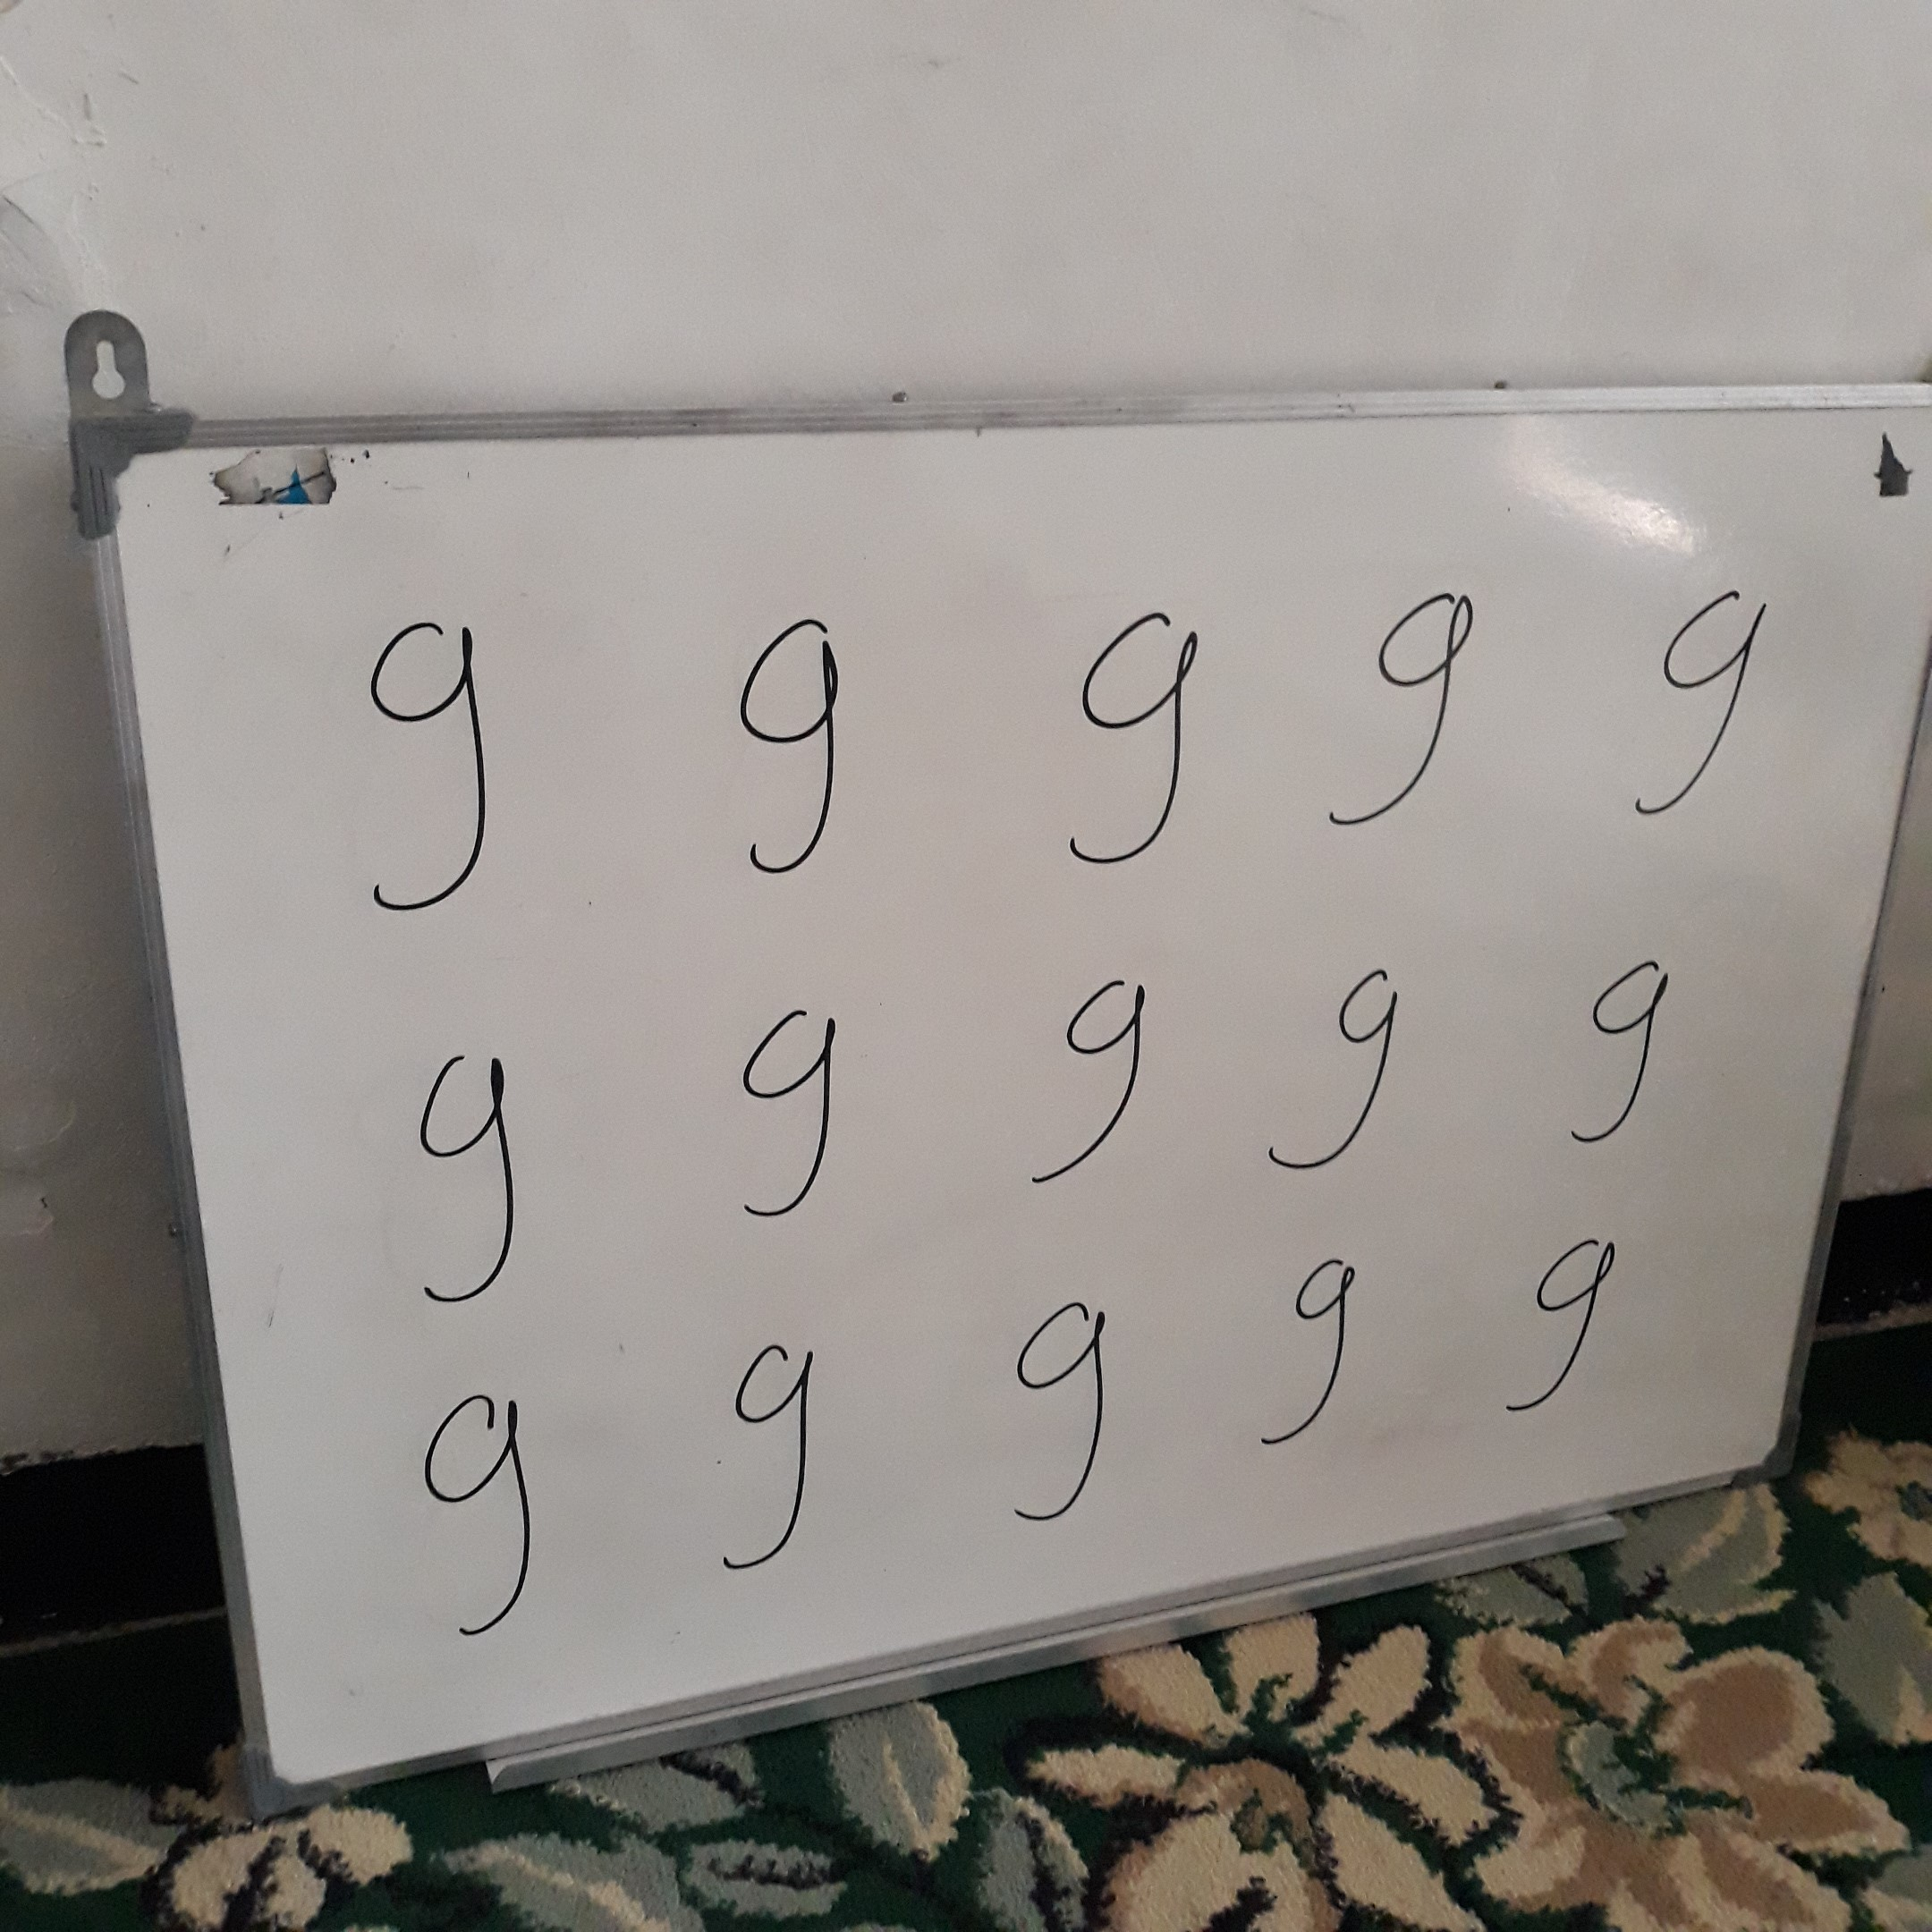num9: (325, 593, 528, 942), (703, 589, 893, 911), (1046, 593, 1232, 888), (677, 1326, 867, 1599), (1310, 569, 1491, 851), (1241, 947, 1439, 1201), (390, 1040, 557, 1322), (1616, 569, 1784, 847), (402, 1387, 578, 1650), (698, 987, 872, 1236), (996, 1289, 1147, 1555), (1016, 973, 1185, 1203), (1553, 938, 1716, 1169), (1491, 1216, 1639, 1441), (1240, 1248, 1381, 1470)
